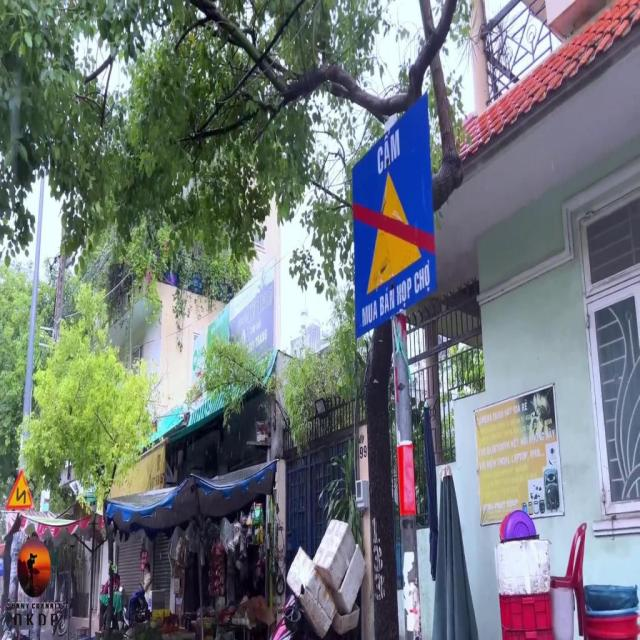cho_ngoat_nguy_hiem_lien_tiep: (5, 467, 34, 509)
